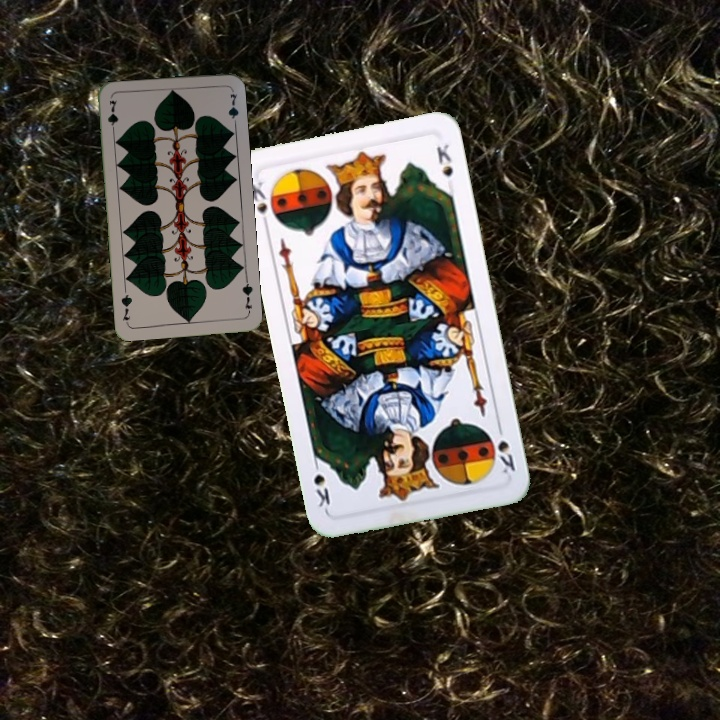G7: (104, 96, 121, 137), (238, 275, 255, 316)
SK: (486, 419, 518, 477), (246, 177, 272, 231)
